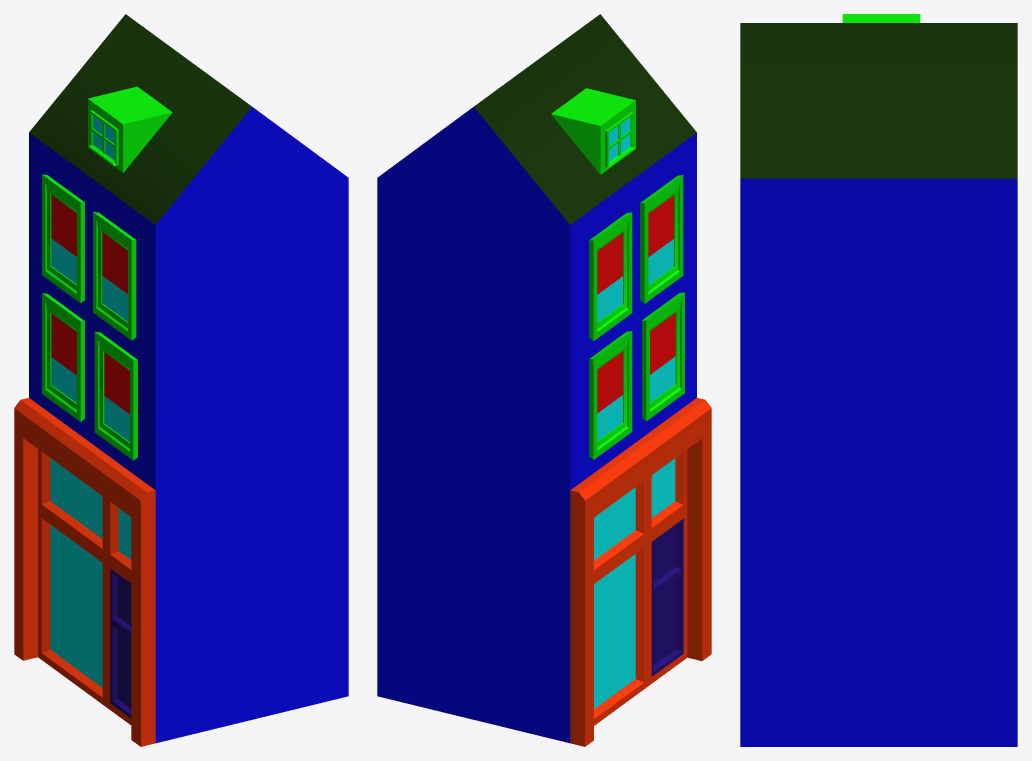
The model's file is Links_6.obj.
3 views of the same model, side by side, from view 1: azimuth 30°, elevation 25°; view 2: azimuth 150°, elevation 25°; view 3: azimuth 270°, elevation 25° (orthographic). The views are drawn at different scales.
Parts seen in each view (by area): view 1: polySurface569; view 2: polySurface569; view 3: polySurface569.
Part boxes in pixels (bbox=[...]): polySurface569: bbox=[14, 14, 348, 746]; polySurface569: bbox=[377, 14, 711, 746]; polySurface569: bbox=[740, 14, 1017, 746].
Bounding box in the file's own units: 12.7 × 35.77 × 13.38.
